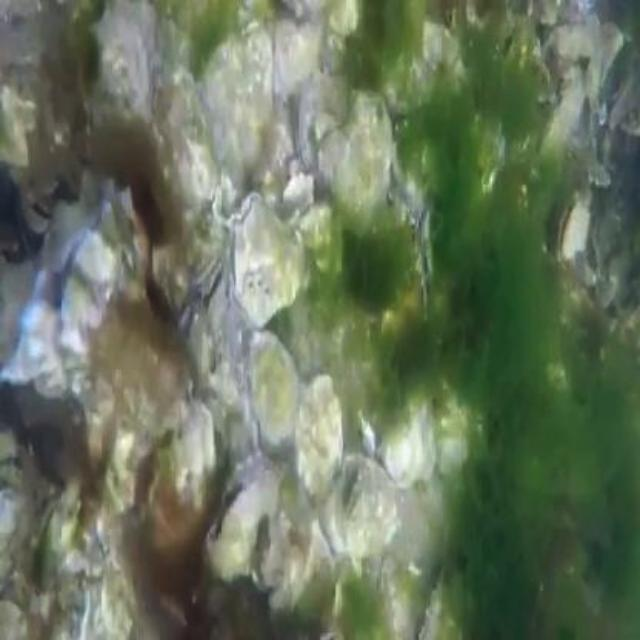Oyster-Closed: (193, 27, 273, 213), (143, 402, 217, 598), (224, 196, 305, 324), (321, 91, 393, 223), (295, 376, 343, 505), (248, 331, 300, 450), (290, 69, 347, 175), (377, 401, 435, 486), (393, 123, 437, 203), (383, 57, 438, 115), (295, 199, 339, 268), (0, 88, 35, 167), (588, 25, 623, 100), (420, 566, 455, 640), (544, 20, 600, 59), (558, 197, 590, 264), (413, 209, 433, 284), (196, 244, 224, 296), (1, 590, 27, 640), (330, 0, 358, 34), (583, 155, 611, 189), (609, 84, 628, 132), (600, 98, 609, 123)
Oyster-Open: (20, 188, 149, 399), (213, 454, 278, 582), (332, 459, 400, 557), (570, 86, 598, 156), (23, 198, 50, 237)
